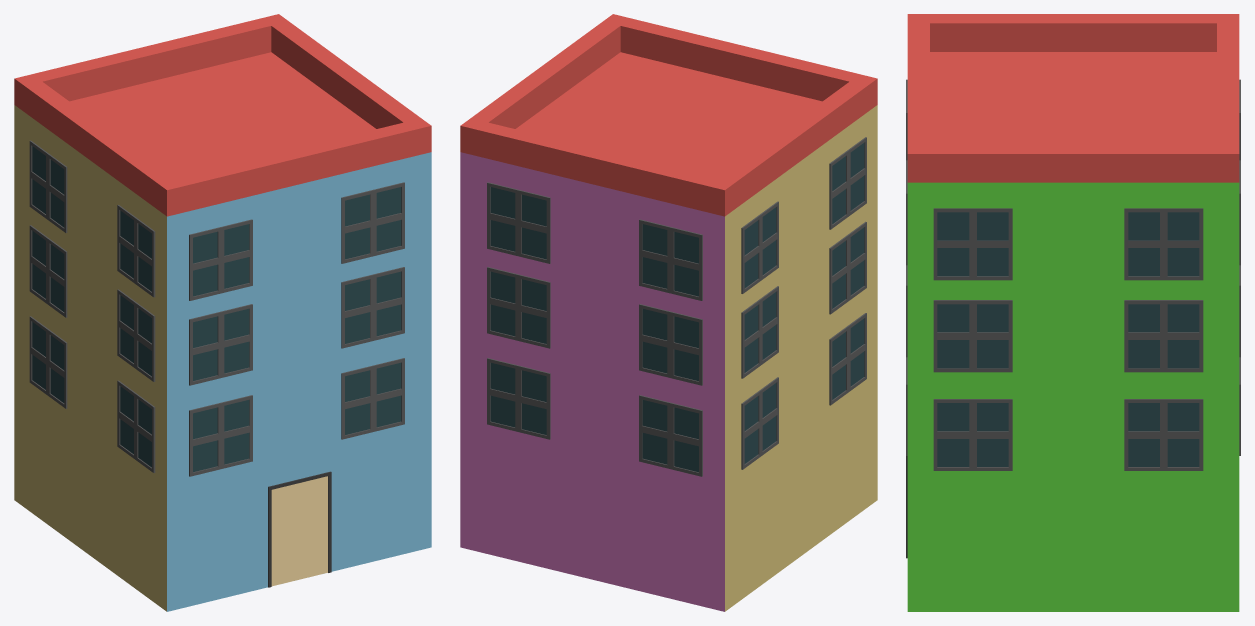
Rendered from House2_Model.fbx.
3 views of the same model, side by side, from view 1: azimuth 30°, elevation 25°; view 2: azimuth 150°, elevation 25°; view 3: azimuth 270°, elevation 25° (orthographic). The views are drawn at different scales.
Visible parts, largest first — view 1: House2_Front, House2_Left, House2_Roof; view 2: House2_Back, House2_Left, House2_Roof; view 3: House2_Right, House2_Roof, House2_Front, House2_Back.
Boxes of the visible parts, <box> form: House2_Front: <box>167,152,431,611</box>; House2_Left: <box>14,105,166,611</box>; House2_Roof: <box>14,14,431,216</box>; House2_Back: <box>460,152,724,611</box>; House2_Left: <box>725,105,877,611</box>; House2_Roof: <box>460,14,877,216</box>; House2_Right: <box>907,182,1239,611</box>; House2_Roof: <box>907,14,1239,182</box>; House2_Front: <box>906,79,907,558</box>; House2_Back: <box>1239,79,1240,455</box>.
Bounding box in the file's own units: 509 × 768 × 509.
